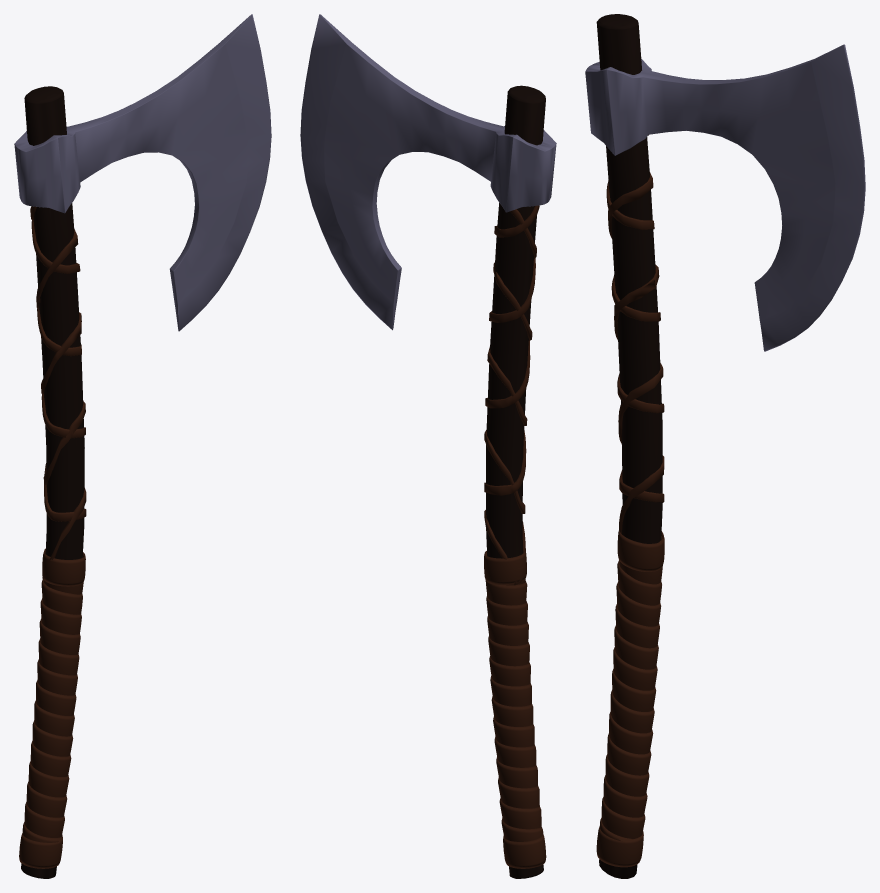
File: PeioUreta_VikingAxe.fbx
3 renders of one model, left to right at view 1: azimuth 30°, elevation 25°; view 2: azimuth 150°, elevation 25°; view 3: azimuth 330°, elevation 25°, orthographic. The views are drawn at different scales.
Parts seen in each view (by area): view 1: Axe; view 2: Axe; view 3: Axe.
Part boxes in pixels (x1,y1,x2,y2): Axe: (14, 14, 271, 878); Axe: (300, 14, 556, 878); Axe: (585, 14, 865, 878).
Bounding box in the file's own units: 10.54 × 32.31 × 1.75.
